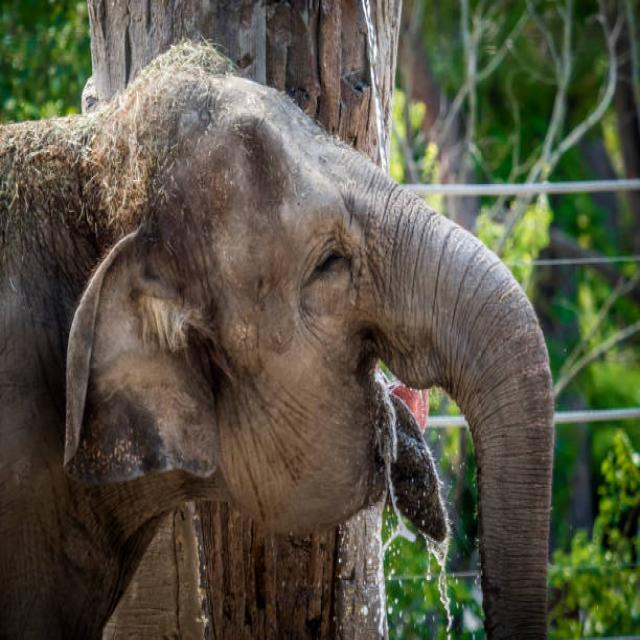Elephant: (0, 48, 586, 638)
